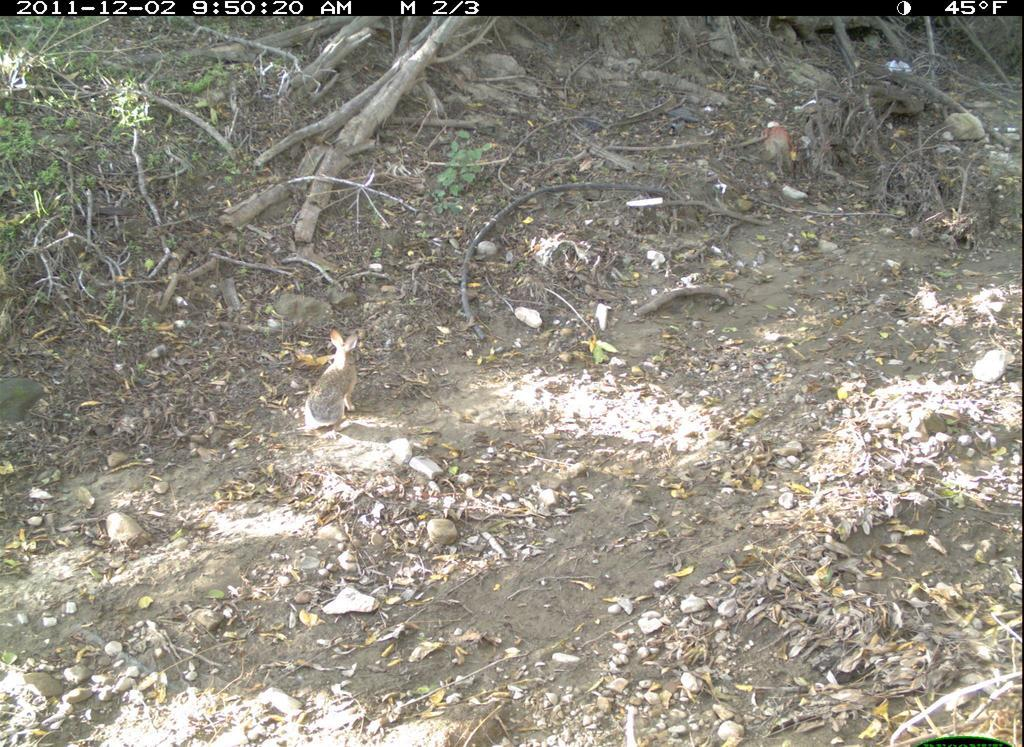rabbit: (289, 314, 374, 441)
